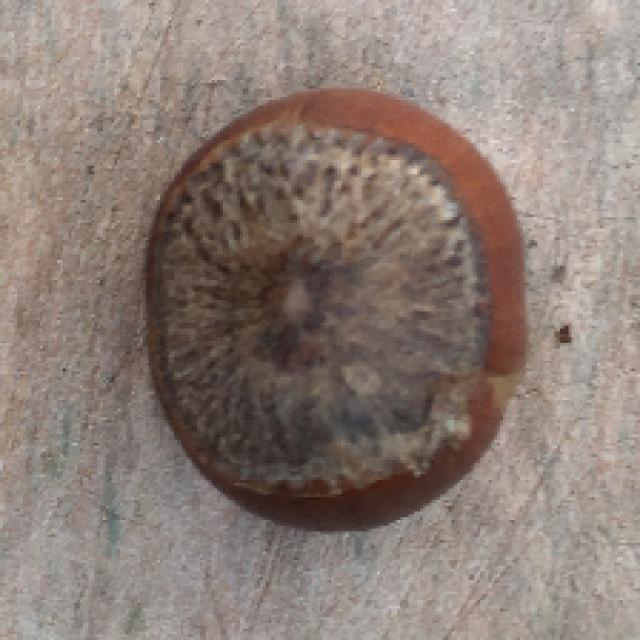damagedHazelnut: (145, 77, 524, 526)
